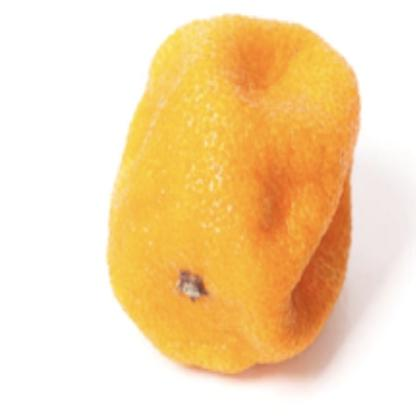rotten: (109, 16, 362, 376)
